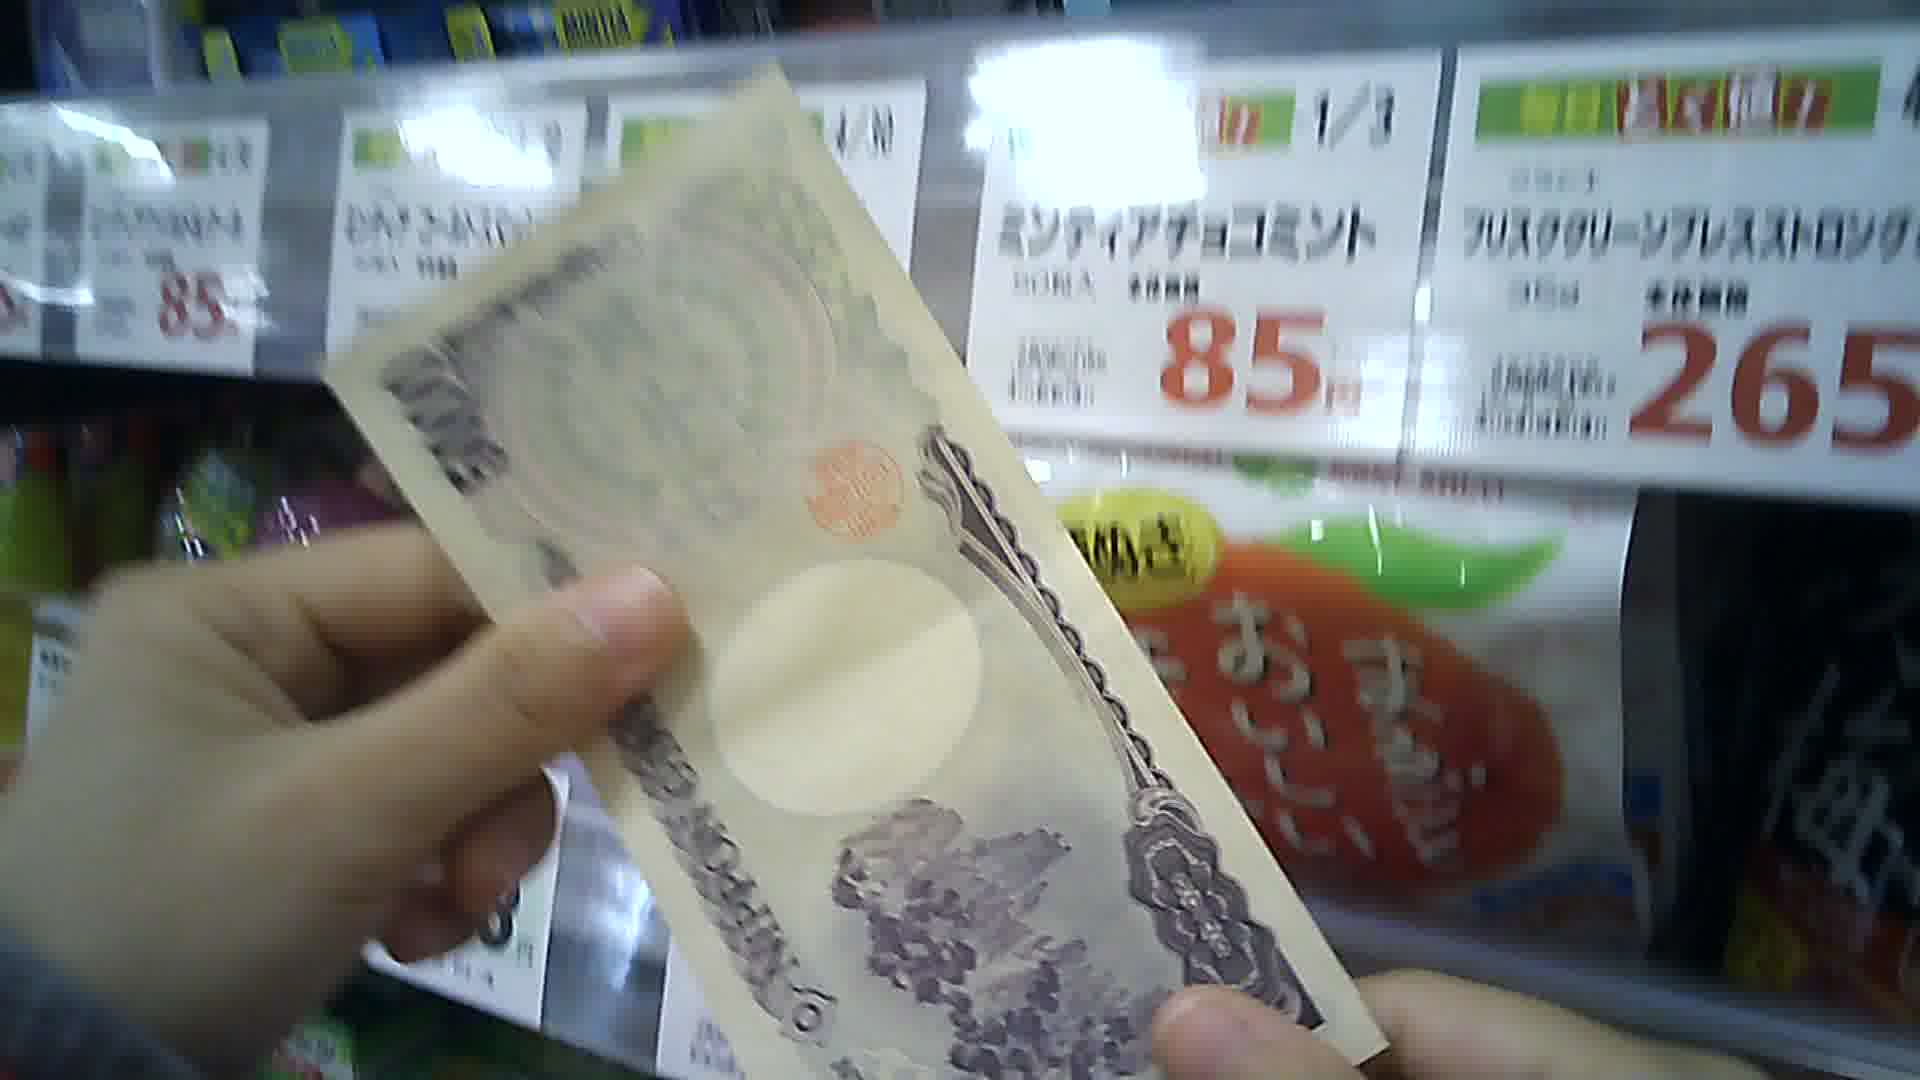5,000 Yen: (306, 50, 1407, 1069)
